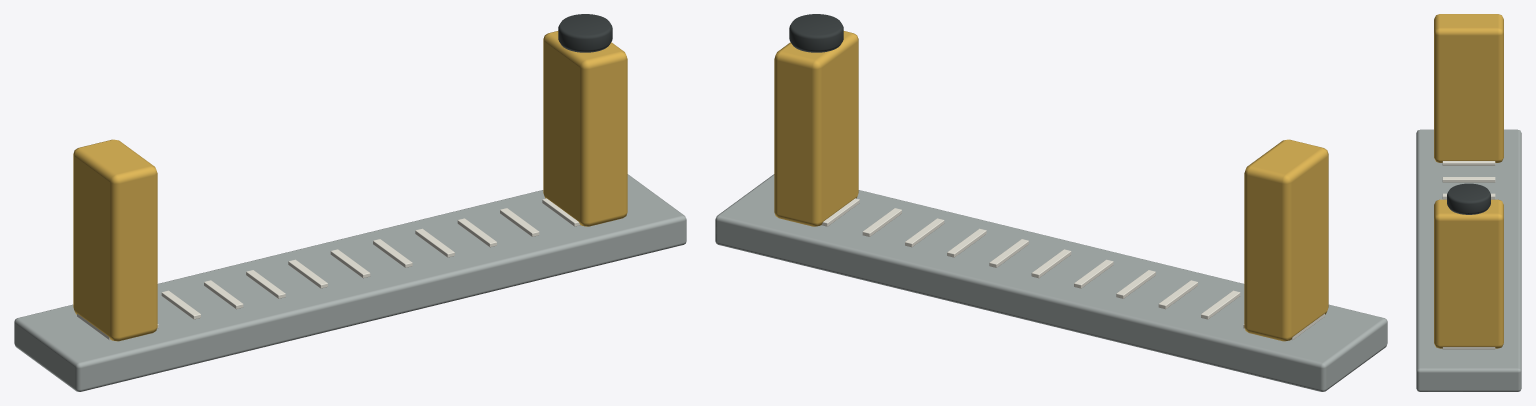
File: automated-parking-and-vehicle-retrieval-automated-park-b901c69f__30384.glb
3 renders of one model, left to right at view 1: azimuth 30°, elevation 25°; view 2: azimuth 150°, elevation 25°; view 3: azimuth 270°, elevation 25°, orthographic. The views are drawn at different scales.
Parts seen in each view (by area): view 1: automated-parking-and-vehicle-retrieval-alignment-gauge; view 2: automated-parking-and-vehicle-retrieval-alignment-gauge; view 3: automated-parking-and-vehicle-retrieval-alignment-gauge.
Part boxes in pixels (x1,y1,x2,y2): automated-parking-and-vehicle-retrieval-alignment-gauge: (14, 14, 686, 391); automated-parking-and-vehicle-retrieval-alignment-gauge: (715, 14, 1387, 391); automated-parking-and-vehicle-retrieval-alignment-gauge: (1416, 14, 1521, 391).
Bounding box in the file's own units: 0.65 × 0.218 × 0.12.
